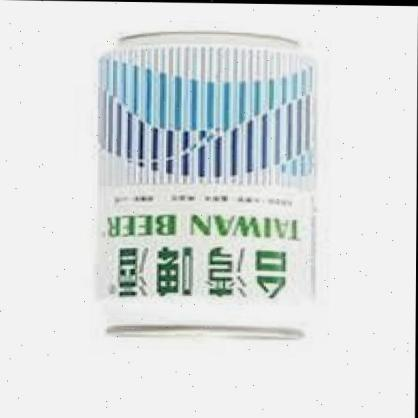can: (93, 28, 320, 342)
